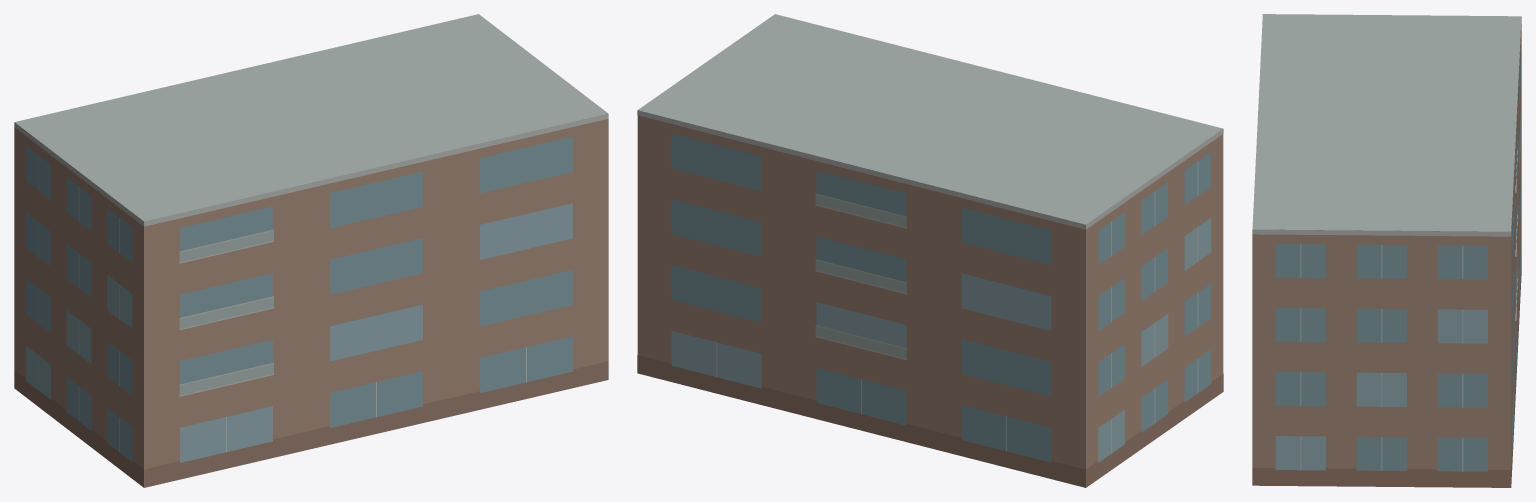
The model's file is survey-upis-32810550.glb.
3 views of the same model, side by side, from view 1: azimuth 30°, elevation 25°; view 2: azimuth 150°, elevation 25°; view 3: azimuth 270°, elevation 25° (orthographic). The views are drawn at different scales.
Visible parts, largest first — view 1: survey-upis-32810550.tmp; view 2: survey-upis-32810550.tmp; view 3: survey-upis-32810550.tmp.
Boxes of the visible parts, bbox=[...] form: survey-upis-32810550.tmp: bbox=[14, 14, 608, 487]; survey-upis-32810550.tmp: bbox=[637, 14, 1223, 487]; survey-upis-32810550.tmp: bbox=[1252, 14, 1521, 487].
Bounding box in the file's own units: 23.16 × 12.7 × 12.1.
